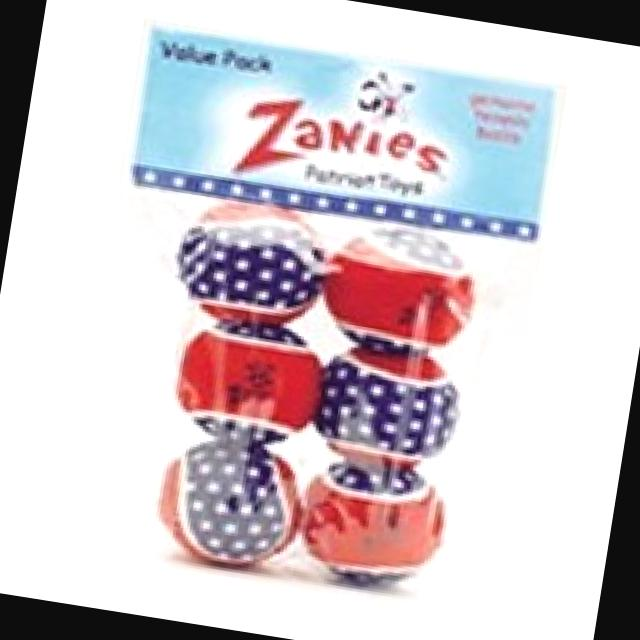Tennis Ball: (320, 226, 477, 358), (154, 432, 304, 569), (313, 345, 463, 474), (175, 203, 331, 327), (300, 454, 443, 587), (175, 318, 324, 445)
